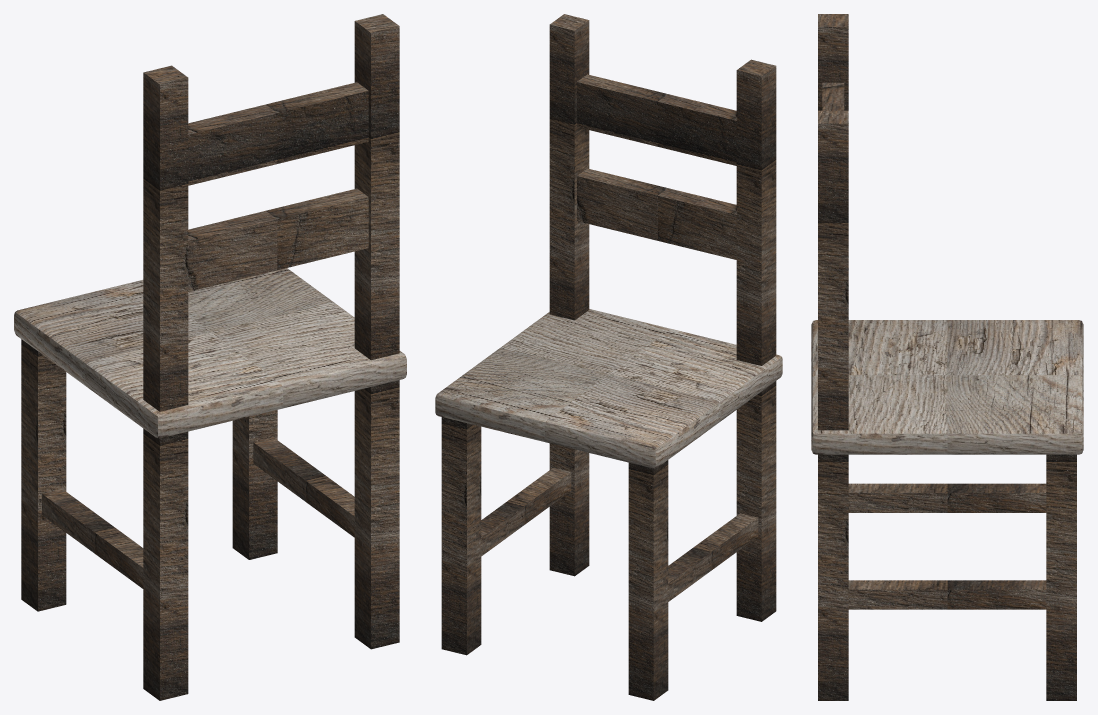
File: chair-v02.glb
3 views of the same model, side by side, from view 1: azimuth 30°, elevation 25°; view 2: azimuth 150°, elevation 25°; view 3: azimuth 270°, elevation 25° (orthographic). The views are drawn at different scales.
Visible parts, largest first — view 1: chair; view 2: chair; view 3: chair.
Part boxes in pixels (x1=…): chair: x1=14, y1=14, x2=406, y2=700; chair: x1=435, y1=14, x2=782, y2=700; chair: x1=811, y1=14, x2=1083, y2=700.
Size of the model in its own units: 0.62 by 1.45 by 0.62.
2 materials, 2 textured.
